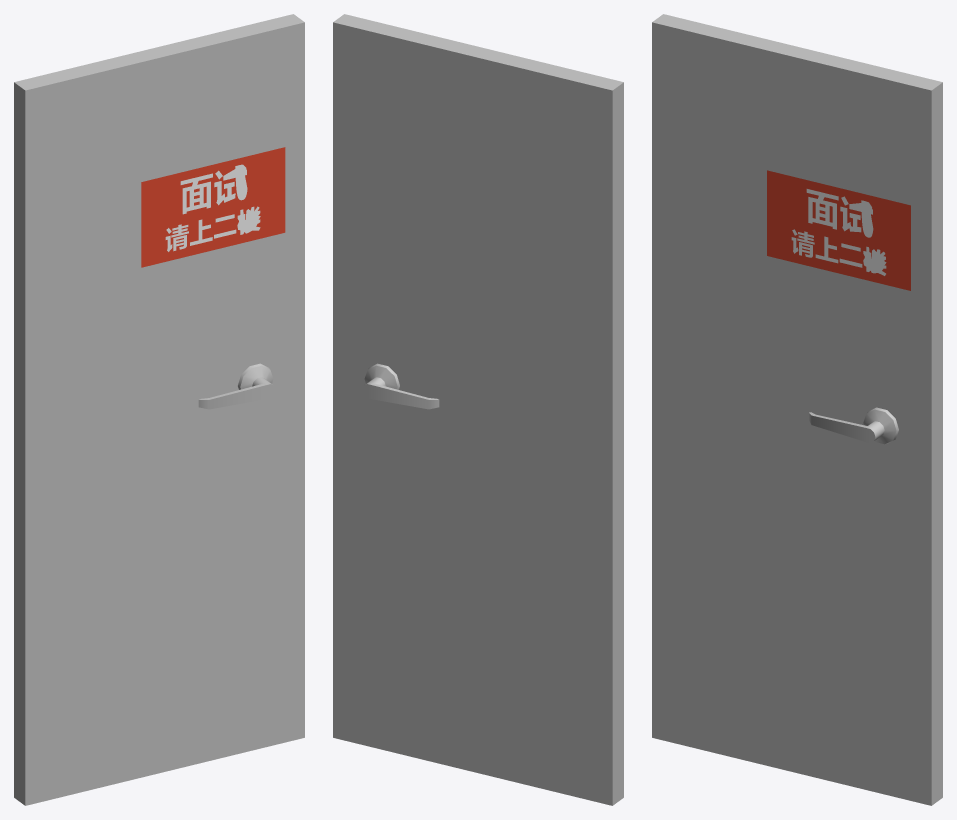
File: SM_,mianshimen_L.FBX
3 renders of one model, left to right at view 1: azimuth 30°, elevation 25°; view 2: azimuth 150°, elevation 25°; view 3: azimuth 330°, elevation 25°, orthographic.
Visible parts, largest first — view 1: SM_,mianshimen_L; view 2: SM_,mianshimen_L; view 3: SM_,mianshimen_L.
Boxes of the visible parts, x1,y1,x2,y2 form: SM_,mianshimen_L: (14,14,304,805); SM_,mianshimen_L: (333,14,623,805); SM_,mianshimen_L: (652,14,942,805).
Bounding box in the file's own units: 104 × 254 × 24.76.
